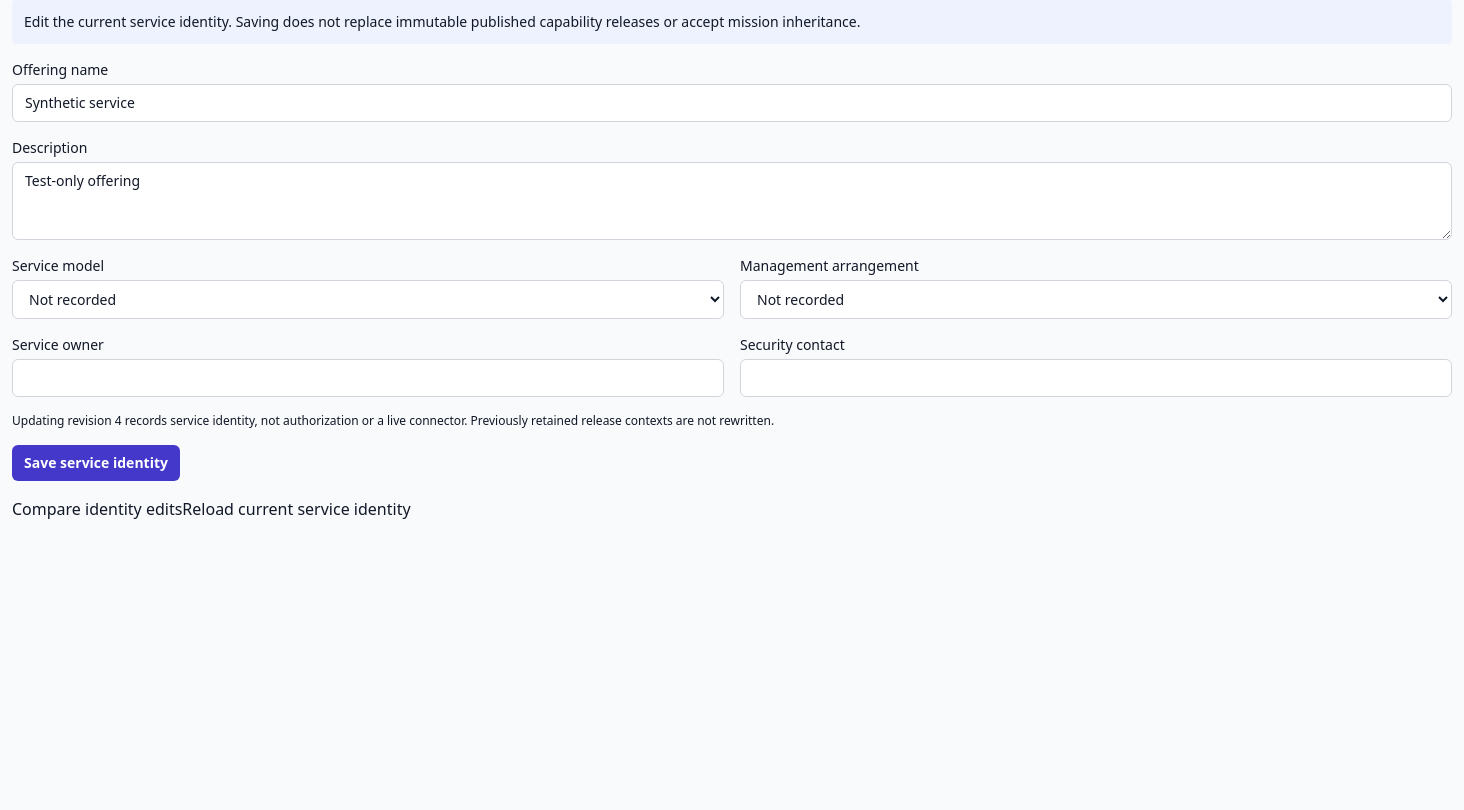
Scenario: shows an explicit no-change identity comparison and rejects a foreign refresh
The width and height of the screenshot is (1464, 810).
Click the button "Compare identity edits". click: x=97, y=509
box: [12,497,182,521]
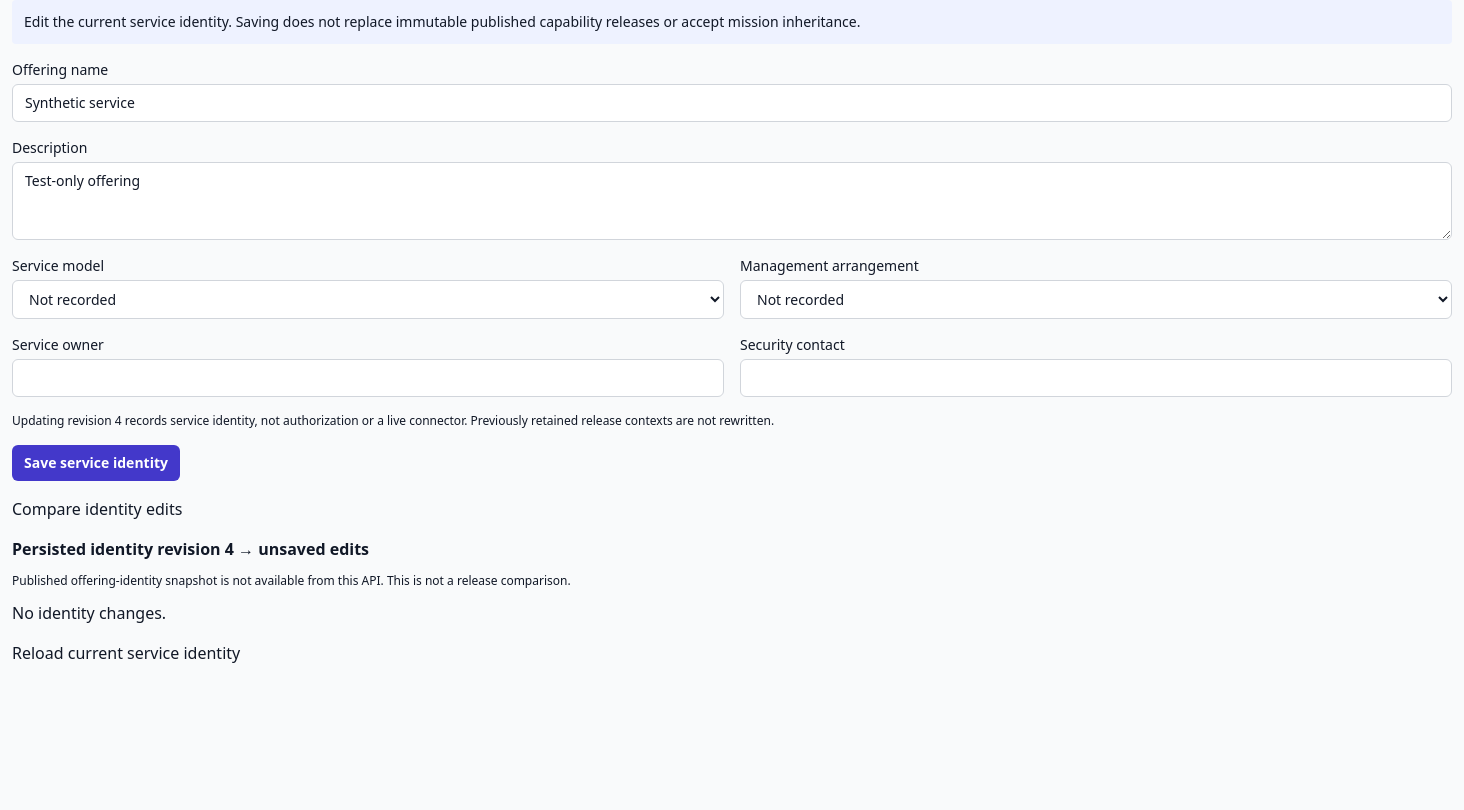
expect the text "No identity changes." is shown: met, box [12,602,166,624]
Click the button "Reload current service identity". click: x=126, y=653
box: [12,641,240,665]
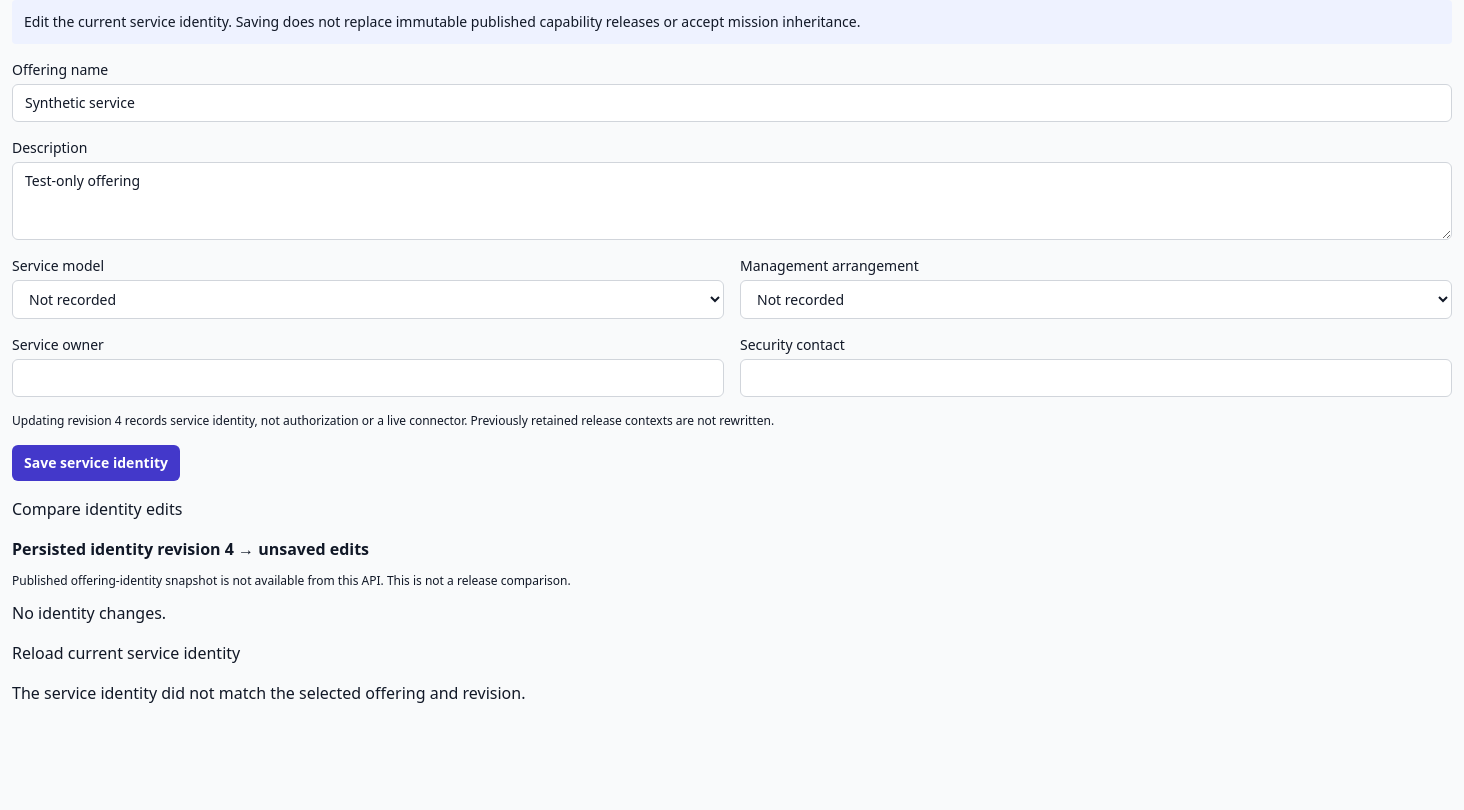
expect the message shows "did not match the selected offering and revision": met, box [12,682,526,704]
